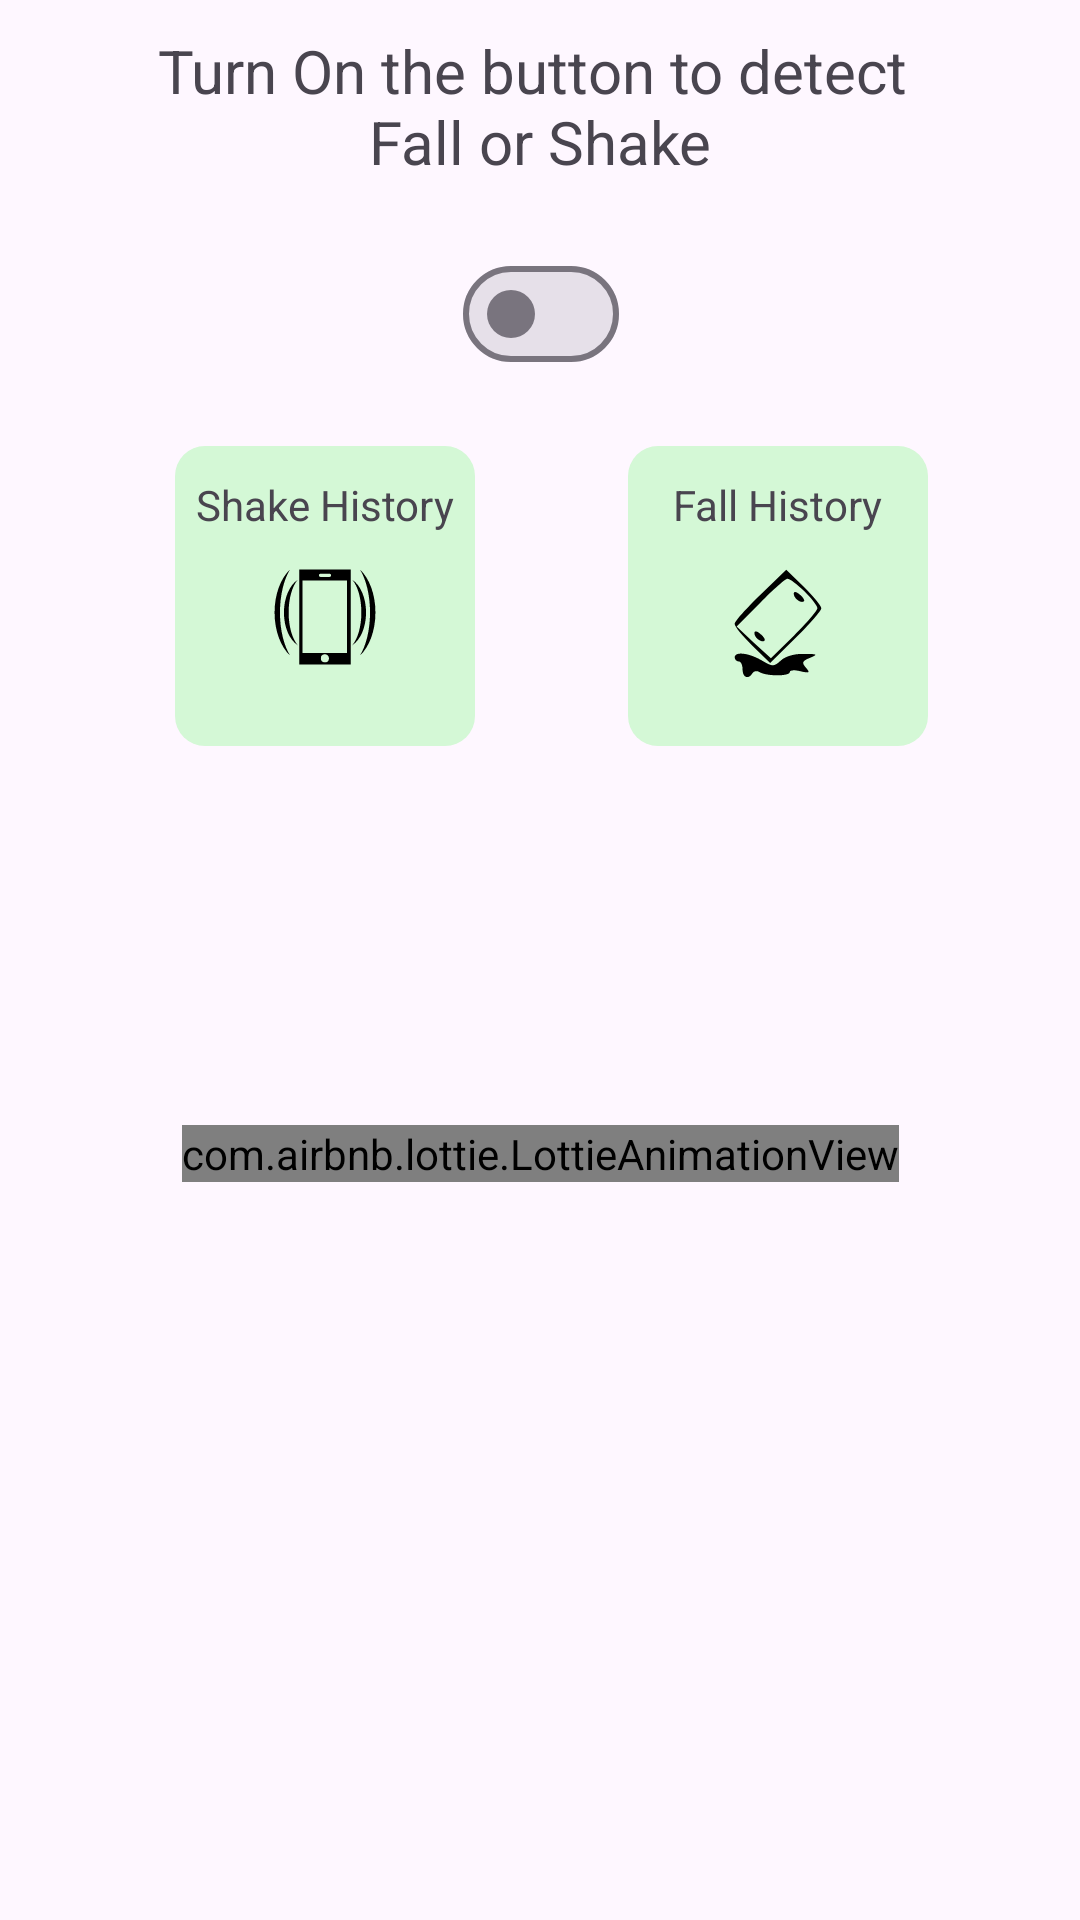

Icons on this 1080 × 1920 Android screen, each with its box as {"x1": x1, "y1": y1, "x2": x2, "y2": y2}:
falling down: {"x1": 734, "y1": 570, "x2": 822, "y2": 677}
vibrating smartphone: {"x1": 274, "y1": 569, "x2": 376, "y2": 665}
